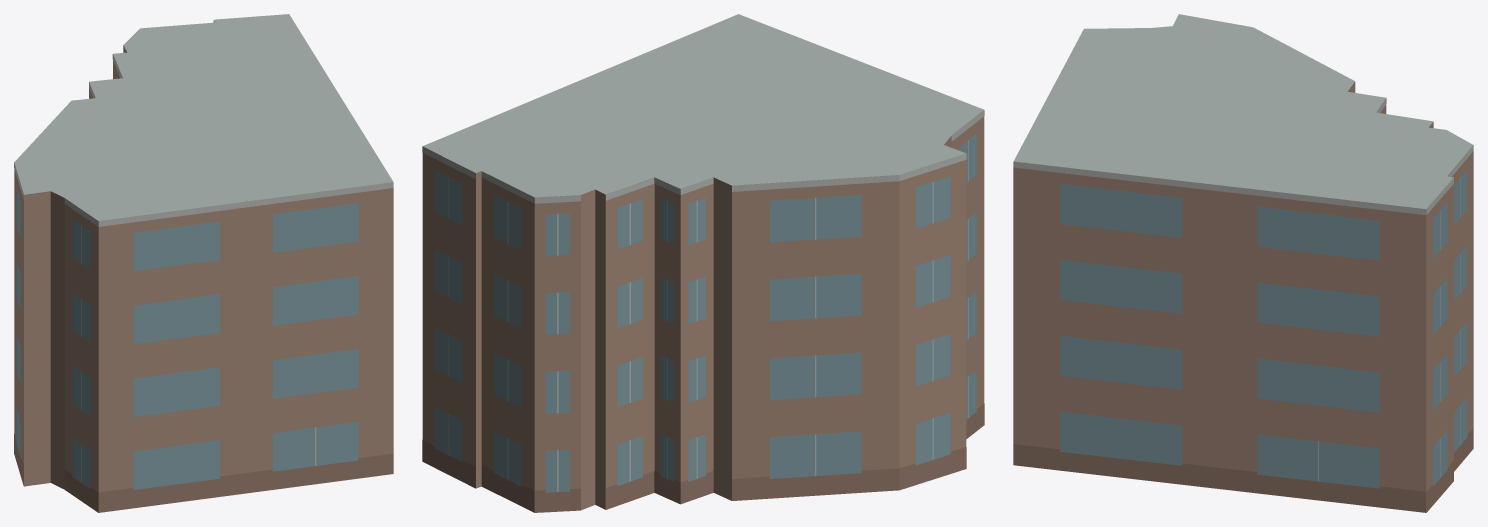
The model's file is survey-upis-32639314.glb.
3 views of the same model, side by side, from view 1: azimuth 30°, elevation 25°; view 2: azimuth 150°, elevation 25°; view 3: azimuth 270°, elevation 25° (orthographic). The views are drawn at different scales.
Parts seen in each view (by area): view 1: survey-upis-32639314.tmp; view 2: survey-upis-32639314.tmp; view 3: survey-upis-32639314.tmp.
Part boxes in pixels (<box>): survey-upis-32639314.tmp: <box>14,14,393,512</box>; survey-upis-32639314.tmp: <box>422,14,984,512</box>; survey-upis-32639314.tmp: <box>1013,14,1473,512</box>.
Bounding box in the file's own units: 16.82 × 12.2 × 16.76.
